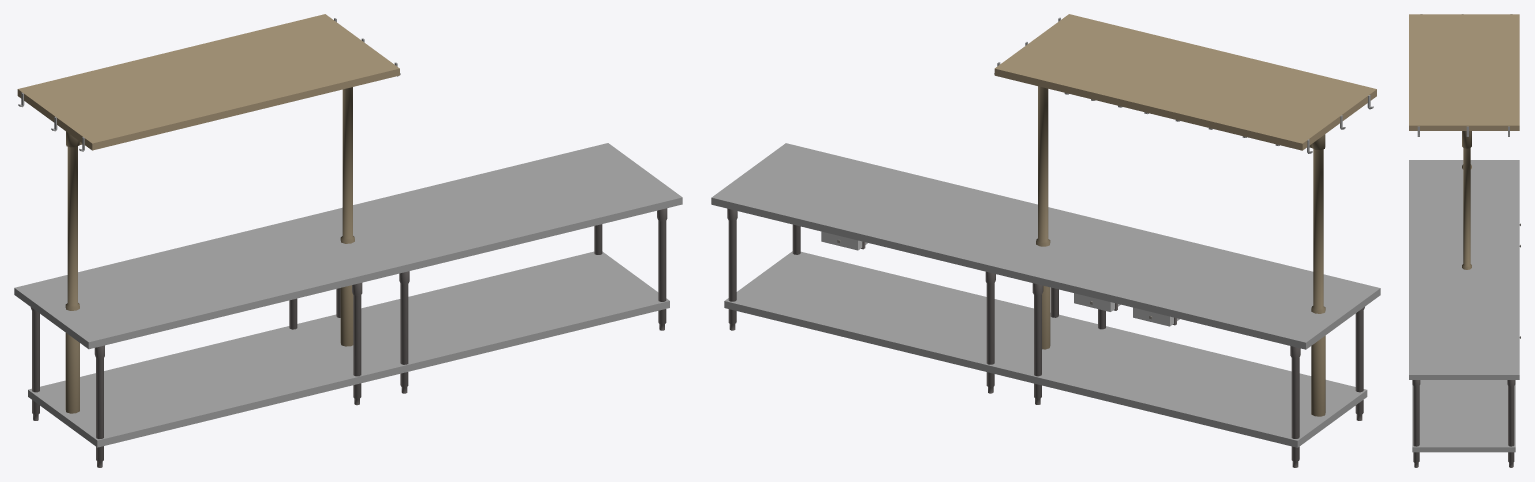
The model's file is SM_Table_Kitchen_01.FBX.
The picture shows the model from 3 angles, left to right: view 1: azimuth 30°, elevation 25°; view 2: azimuth 150°, elevation 25°; view 3: azimuth 270°, elevation 25°; orthographic projection. The views are drawn at different scales.
Visible parts, largest first — view 1: SM_Table_Kitchen_01; view 2: SM_Table_Kitchen_01; view 3: SM_Table_Kitchen_01.
Boxes of the visible parts, x1,y1,x2,y2 form: SM_Table_Kitchen_01: (14,14,682,467); SM_Table_Kitchen_01: (711,14,1380,467); SM_Table_Kitchen_01: (1409,14,1520,467).
Bounding box in the file's own units: 460 × 101 × 244.
